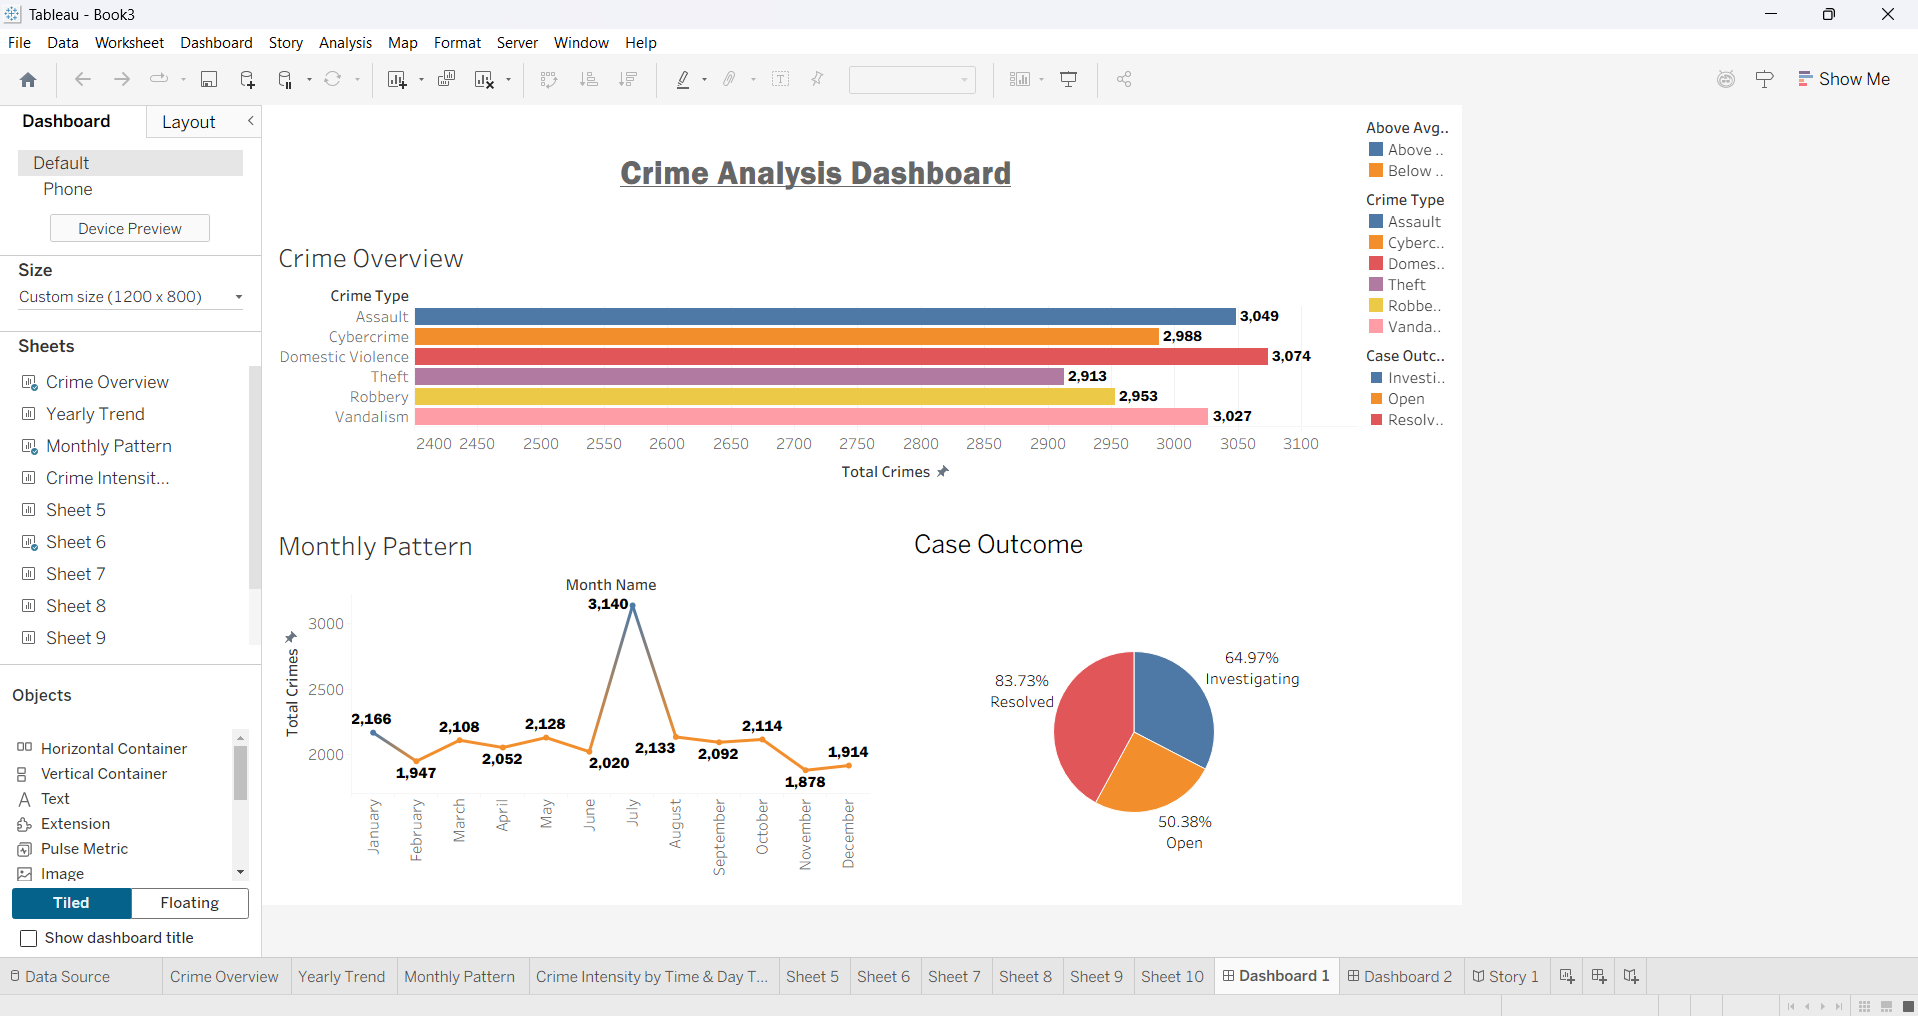

What the dashboard file says about the page in this screenshot:
{"tool":"tableau","page":{"name":"Dashboard 1","canvas":[1200,800],"ordinal":0},"visuals":[{"type":"text","box":[8,8,1092,119]},{"type":"legend","title":"Monthly Pattern","param":"[federated.1bnoh9607viowp10eqg8a1ajgy2g].[usr:Calculation_1839815203459092:nk]","box":[1100,8,92,72]},{"type":"legend","title":"Crime Overview","param":"[federated.1bnoh9607viowp10eqg8a1ajgy2g].[none:Crime Type:nk]","box":[1100,80,92,156]},{"type":"worksheet","title":"Crime Overview","mark":"Automatic","rows":["Crime Type"],"cols":["Case_ID"],"box":[8,127,1092,288]},{"type":"legend","title":"Sheet 6","param":"[federated.1bnoh9607viowp10eqg8a1ajgy2g].[none:Calculation_1839815190188041:nk]","box":[1100,236,92,93]},{"type":"worksheet","title":"Monthly Pattern","mark":"Line","rows":["Case_ID"],"cols":["Calculation_1839815189684229"],"box":[8,415,604,377]},{"type":"blank","box":[612,415,32,377]},{"type":"worksheet","title":"Sheet 6","mark":"Pie","box":[644,415,456,377]}]}

Visuals, with their boxes on the page's 1200x800 design canvas (x1, y1, x2, y2). These are canvas units, not pixel positions in the 1918x1016 screenshot, which may show the page scaled, cropped or inside an application window:
text: select_region(8, 8, 1100, 127)
"Monthly Pattern" legend: select_region(1100, 8, 1192, 80)
"Crime Overview" legend: select_region(1100, 80, 1192, 236)
"Crime Overview" worksheet: select_region(8, 127, 1100, 415)
"Sheet 6" legend: select_region(1100, 236, 1192, 329)
"Monthly Pattern" worksheet (Line marks): select_region(8, 415, 612, 792)
blank: select_region(612, 415, 644, 792)
"Sheet 6" worksheet (Pie marks): select_region(644, 415, 1100, 792)
